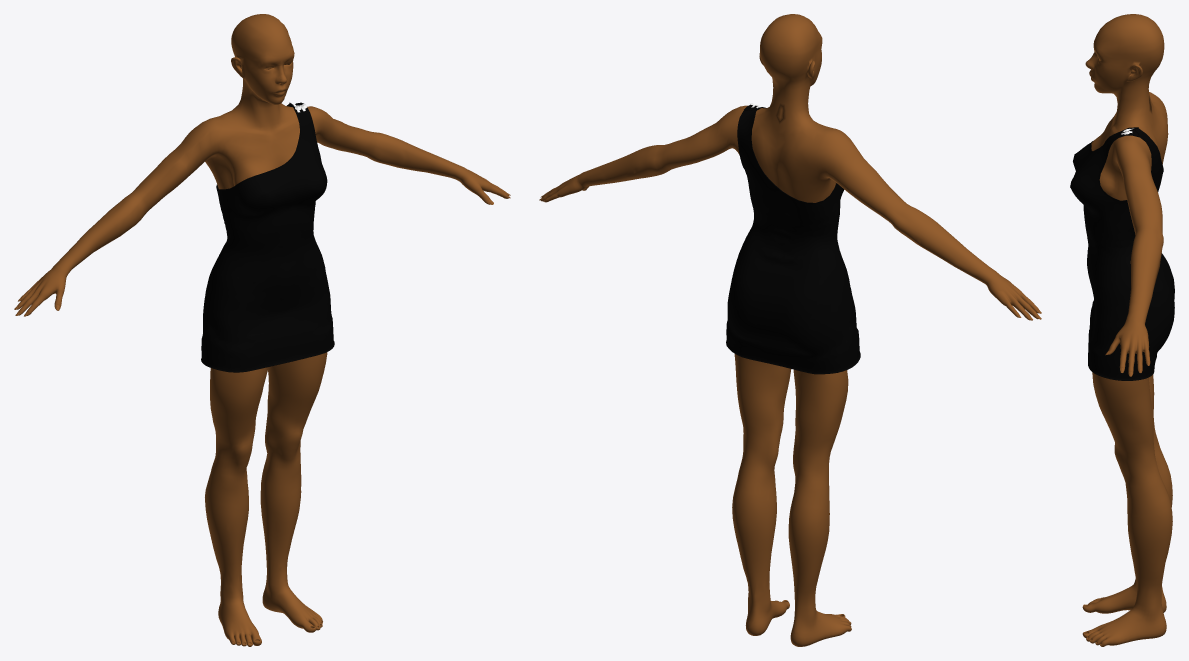
File: dress6.glb
The picture shows the model from 3 angles, left to right: view 1: azimuth 30°, elevation 25°; view 2: azimuth 150°, elevation 25°; view 3: azimuth 270°, elevation 25°; orthographic projection.
Parts seen in each view (by area): view 1: Body, WhiteDress; view 2: Body, WhiteDress; view 3: Body, WhiteDress.
Part boxes in pixels (bbox=[...]): Body: bbox=[16, 14, 510, 646]; WhiteDress: bbox=[201, 102, 334, 372]; Body: bbox=[540, 14, 1038, 646]; WhiteDress: bbox=[726, 103, 860, 374]; Body: bbox=[1082, 14, 1172, 646]; WhiteDress: bbox=[1070, 127, 1174, 380].
Bounding box in the file's own units: 1.58 × 1.85 × 0.288.
